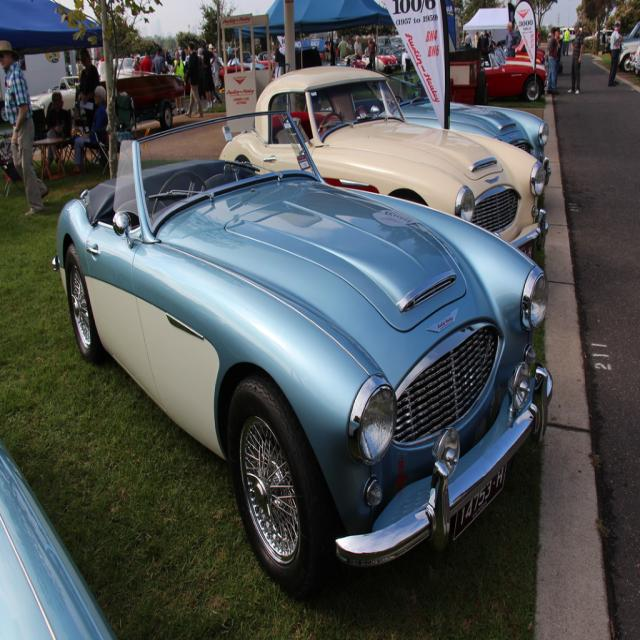car: (54, 137, 557, 590)
